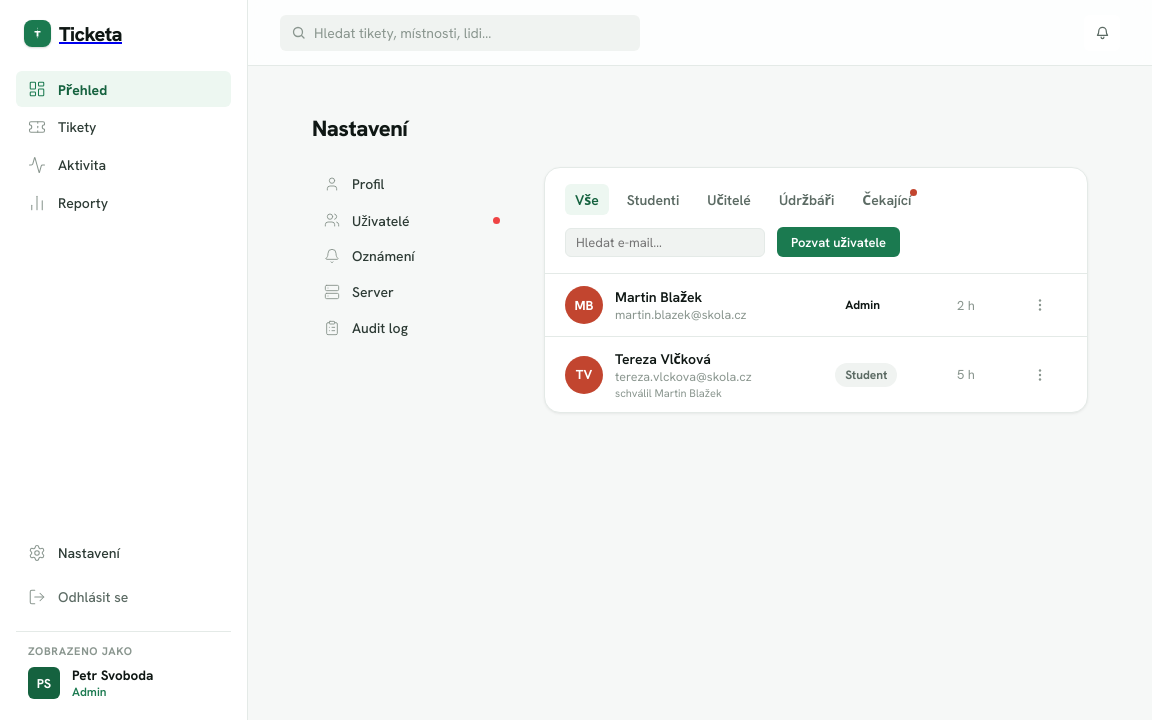
Test case: UsersPage › filters by role tab
Click the tab "Studenti" at (653, 200), box top-left (617, 184), bottom-right (689, 215)
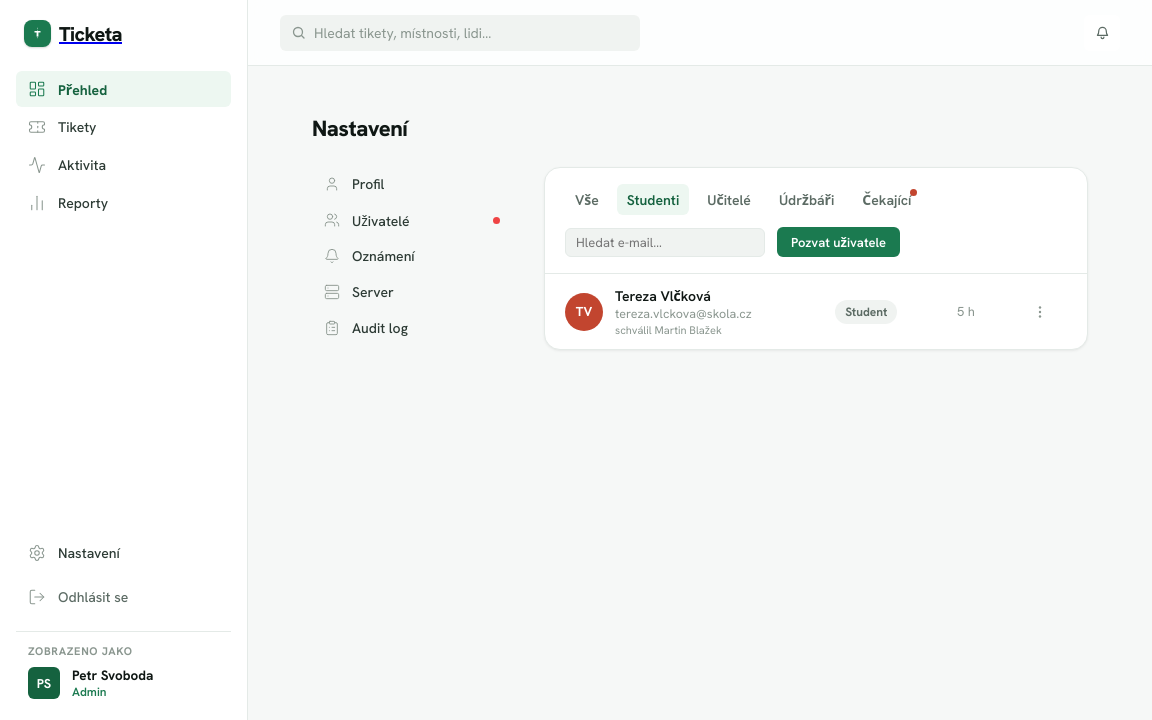
Expected: the number of rows with test id "user-row" is 1, top-left (545, 274), bottom-right (1087, 349)
